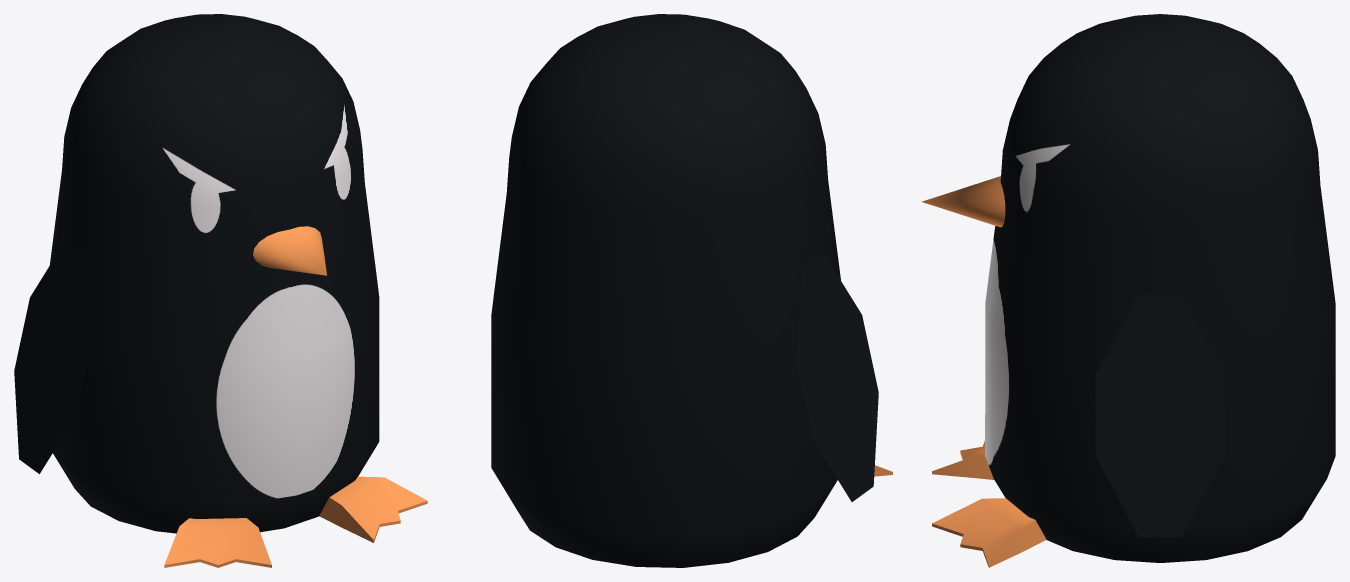
File: Penguin.fbx
3 views of the same model, side by side, from view 1: azimuth 30°, elevation 25°; view 2: azimuth 150°, elevation 25°; view 3: azimuth 270°, elevation 25° (orthographic). The views are drawn at different scales.
Parts seen in each view (by area): view 1: polySurface22; view 2: polySurface22; view 3: polySurface22.
Boxes of the visible parts, <box> form: polySurface22: <box>14,14,427,567</box>; polySurface22: <box>491,14,892,567</box>; polySurface22: <box>921,14,1335,567</box>.
Size of the model in its own units: 1.97 by 2.27 by 1.83.
1 material, 1 textured.
